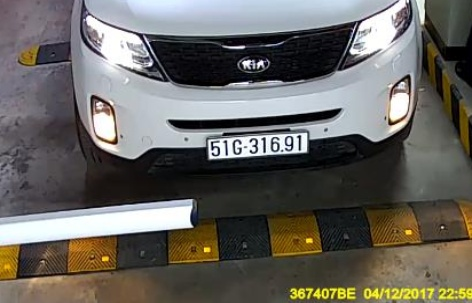plate: (204, 128, 314, 162)
